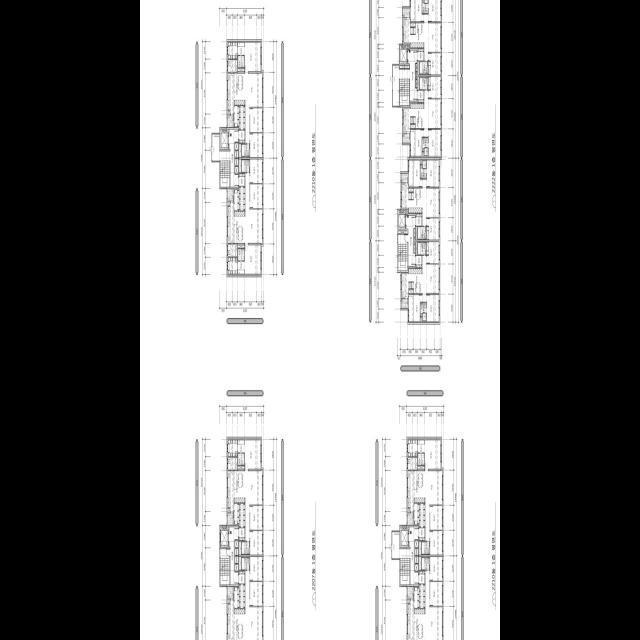background: (140, 0, 500, 640)
space_bedroom: (245, 41, 261, 71), (425, 438, 441, 468), (245, 244, 261, 274), (245, 438, 261, 468), (408, 294, 422, 322), (410, 129, 424, 157), (408, 159, 422, 186), (428, 129, 441, 157), (427, 294, 439, 322), (427, 159, 439, 186), (250, 184, 263, 208), (430, 581, 443, 605), (250, 581, 263, 605), (250, 107, 262, 132), (410, 0, 424, 21), (250, 159, 262, 183), (430, 505, 442, 529), (430, 556, 442, 580), (250, 530, 262, 554), (250, 505, 262, 529), (250, 556, 262, 580), (430, 530, 442, 554), (428, 76, 441, 98), (250, 133, 262, 156), (429, 52, 441, 74), (427, 241, 439, 263), (427, 218, 439, 239), (429, 0, 441, 21)
space_dressroom: (407, 438, 417, 456), (227, 438, 237, 456), (227, 41, 237, 58), (227, 257, 237, 274)
space_elevator: (220, 129, 228, 149), (400, 526, 408, 546), (220, 526, 228, 546), (400, 45, 407, 63), (398, 210, 405, 228)
space_elevator_hall: (392, 526, 418, 584), (212, 129, 238, 186), (393, 50, 417, 105), (398, 215, 415, 265), (229, 526, 238, 584)
space_front: (239, 105, 245, 129), (419, 584, 425, 608), (239, 584, 245, 608), (419, 503, 425, 526), (239, 187, 245, 210), (239, 503, 245, 526), (239, 173, 245, 186), (239, 527, 245, 540), (419, 527, 425, 540), (239, 130, 245, 142), (416, 255, 422, 267), (416, 213, 422, 225), (418, 48, 424, 60), (418, 90, 424, 102), (419, 571, 425, 583), (239, 571, 245, 583)
space_kitchen: (227, 470, 245, 512), (407, 470, 425, 512), (227, 73, 245, 114), (407, 599, 425, 640), (227, 201, 245, 242), (227, 599, 245, 640), (403, 17, 424, 48), (403, 102, 424, 132), (401, 268, 422, 298), (401, 183, 422, 213), (414, 587, 419, 608), (414, 503, 419, 524), (234, 189, 239, 210), (234, 105, 239, 126), (234, 587, 239, 608), (234, 503, 239, 524)
space_living_room: (245, 71, 263, 142), (245, 469, 263, 540), (425, 469, 443, 540), (245, 173, 262, 244), (425, 570, 442, 640), (245, 570, 262, 640), (424, 90, 441, 136), (422, 255, 439, 301), (424, 14, 441, 60), (422, 179, 439, 225)
space_other: (227, 59, 237, 72), (227, 244, 237, 256), (227, 457, 237, 469), (407, 457, 417, 469), (239, 143, 241, 157), (400, 65, 409, 68), (398, 230, 407, 233), (419, 556, 421, 569), (239, 159, 241, 172), (239, 541, 241, 554), (239, 556, 241, 569), (419, 541, 421, 554), (235, 150, 238, 157), (235, 142, 238, 149), (415, 540, 418, 547), (415, 564, 418, 571), (415, 548, 418, 555), (235, 158, 238, 165), (235, 556, 238, 563), (235, 540, 238, 547), (235, 564, 238, 571), (235, 548, 238, 555), (415, 556, 418, 563), (235, 166, 238, 173), (238, 244, 244, 247), (238, 68, 244, 71), (411, 124, 415, 128), (409, 289, 413, 293), (411, 22, 415, 26), (416, 241, 417, 254), (418, 76, 419, 89), (416, 226, 417, 239), (418, 61, 419, 74), (227, 110, 230, 114), (407, 508, 410, 512), (409, 188, 413, 191), (238, 466, 244, 468), (227, 508, 230, 512), (418, 466, 424, 468), (420, 317, 422, 322), (422, 152, 424, 157), (416, 63, 417, 71), (414, 228, 415, 236), (420, 159, 422, 163), (416, 79, 417, 87), (414, 237, 415, 244), (414, 245, 415, 252), (416, 72, 417, 78), (406, 210, 407, 214), (408, 45, 409, 48)
space_outdoor_room: (407, 586, 413, 598), (227, 115, 233, 127), (227, 188, 233, 200), (227, 586, 233, 598), (227, 513, 233, 524), (407, 513, 413, 524), (401, 173, 408, 182), (403, 133, 410, 142), (401, 299, 408, 308), (403, 8, 410, 16)
space_staircase: (220, 548, 229, 584), (398, 243, 407, 270), (400, 78, 409, 105), (400, 558, 409, 584), (220, 160, 229, 186)
space_toilet: (242, 541, 250, 554), (422, 541, 430, 554), (242, 144, 250, 156), (418, 226, 426, 238), (422, 557, 430, 569), (242, 159, 250, 171), (242, 557, 250, 569), (418, 242, 426, 254), (420, 61, 428, 73), (420, 77, 428, 89), (238, 41, 244, 55), (422, 137, 428, 151), (420, 164, 426, 178), (418, 438, 424, 452), (238, 438, 244, 452), (238, 260, 244, 273), (422, 0, 428, 13), (420, 303, 426, 316), (241, 55, 244, 67), (238, 248, 241, 260), (241, 248, 244, 260), (238, 55, 241, 67), (421, 453, 424, 464), (418, 453, 421, 464), (241, 453, 244, 464), (238, 453, 241, 464), (424, 147, 428, 155), (422, 160, 426, 168), (423, 313, 426, 320), (424, 0, 428, 3)
